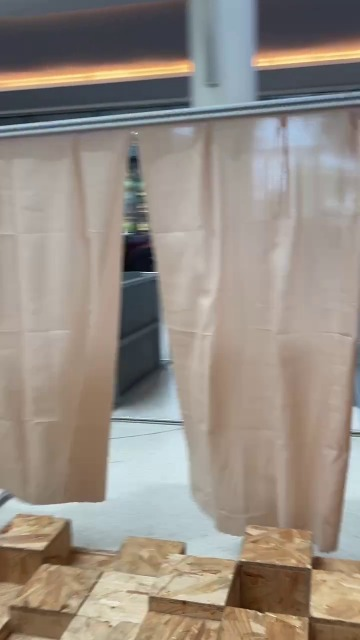curtain: (0, 115, 353, 608)
